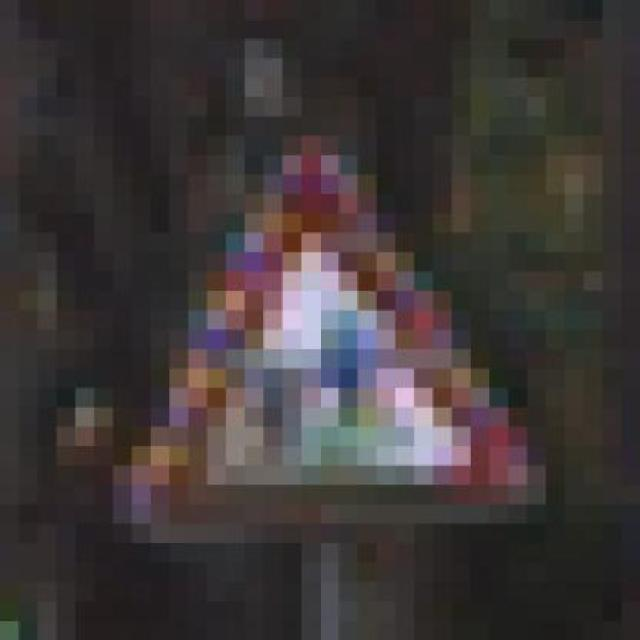Beware of children: (94, 97, 546, 563)
